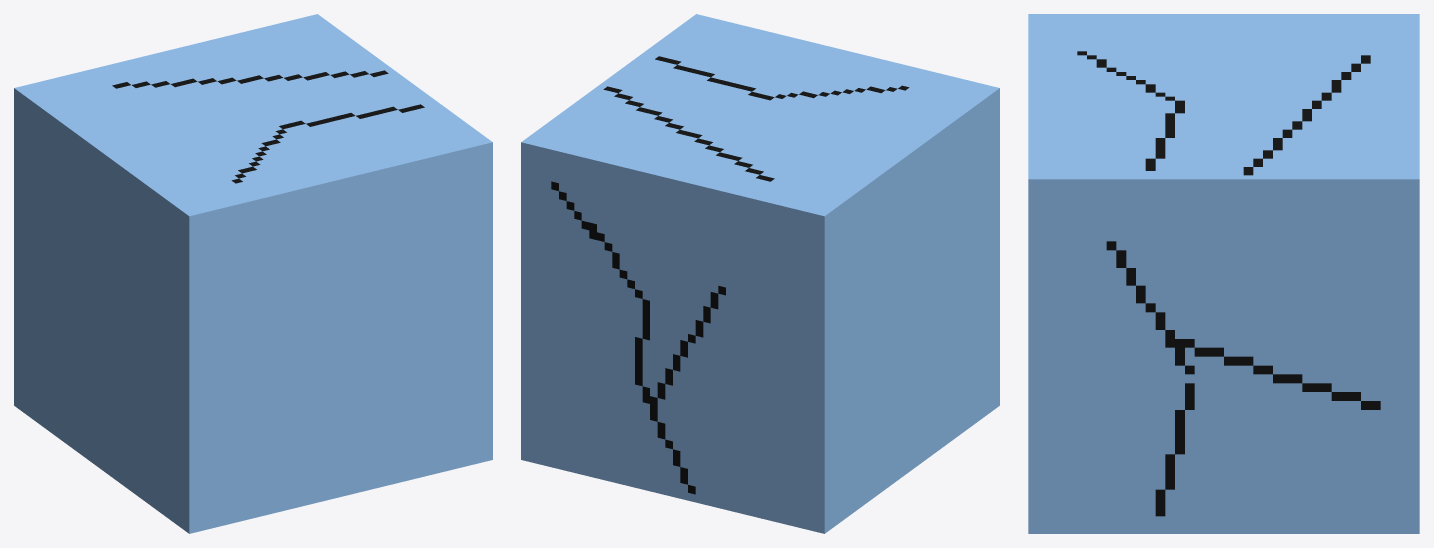
Rendered from break1.glb.
3 views of the same model, side by side, from view 1: azimuth 30°, elevation 25°; view 2: azimuth 150°, elevation 25°; view 3: azimuth 270°, elevation 25° (orthographic). The views are drawn at different scales.
Parts seen in each view (by area): view 1: Untitled; view 2: Untitled; view 3: Untitled.
Part boxes in pixels (x1,y1,x2,y2): Untitled: (14,14,492,533); Untitled: (521,14,999,533); Untitled: (1028,14,1419,533).
Bounding box in the file's own units: 4 × 4 × 4.
1 material, 1 textured.
